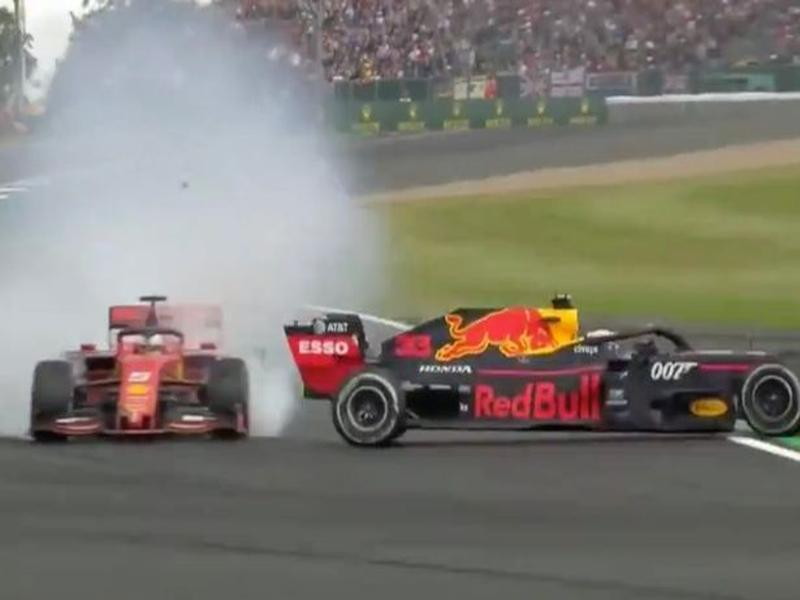f1: (288, 263, 800, 451), (29, 294, 262, 450)
